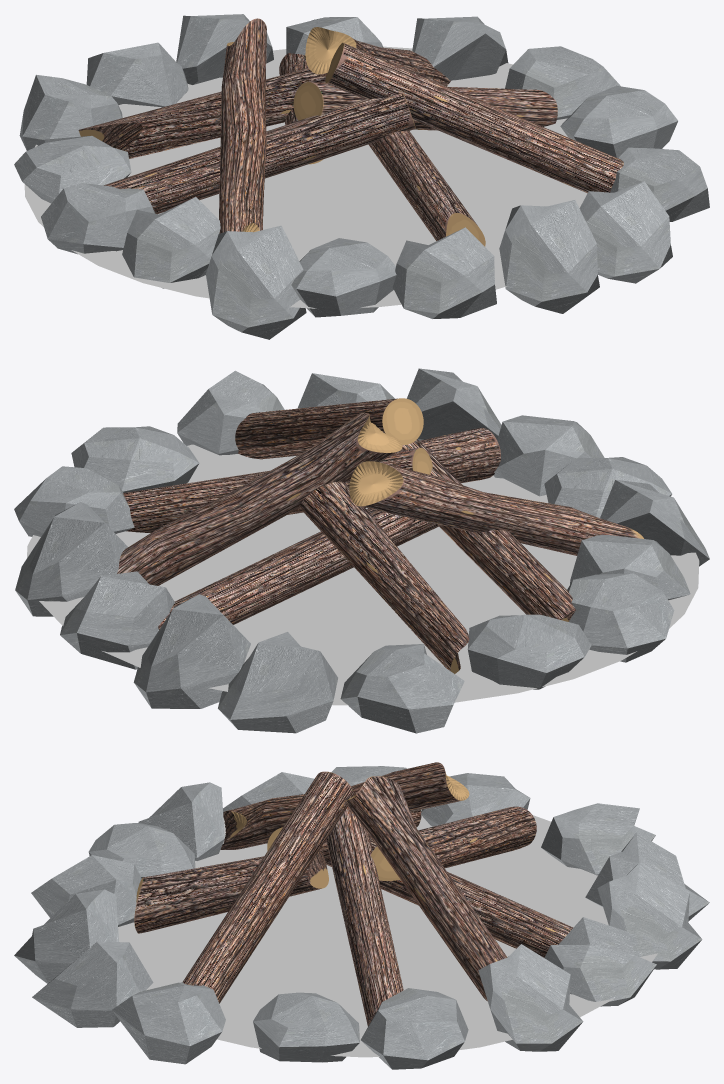
Rendered from feu_de_camp.obj.
3 views of the same model, one above another, from view 1: azimuth 30°, elevation 25°; view 2: azimuth 150°, elevation 25°; view 3: azimuth 270°, elevation 25° (orthographic). The views are drawn at different scales.
Visible parts, largest first — view 1: Cube.010, Cylindre.006, Cylindre; view 2: Cube.010, Cylindre.006, Cylindre; view 3: Cube.010, Cylindre.006, Cylindre.
Part boxes in pixels (<box>): Cube.010: <box>14,14,709,339</box>; Cylindre.006: <box>78,18,623,246</box>; Cylindre: <box>24,46,587,308</box>; Cube.010: <box>14,368,709,733</box>; Cylindre.006: <box>117,398,643,673</box>; Cylindre: <box>27,444,699,705</box>; Cube.010: <box>14,766,709,1069</box>; Cylindre.006: <box>134,762,573,1026</box>; Cylindre: <box>118,810,657,1057</box>.
Bounding box in the file's own units: 9.24 × 2.74 × 9.74.
